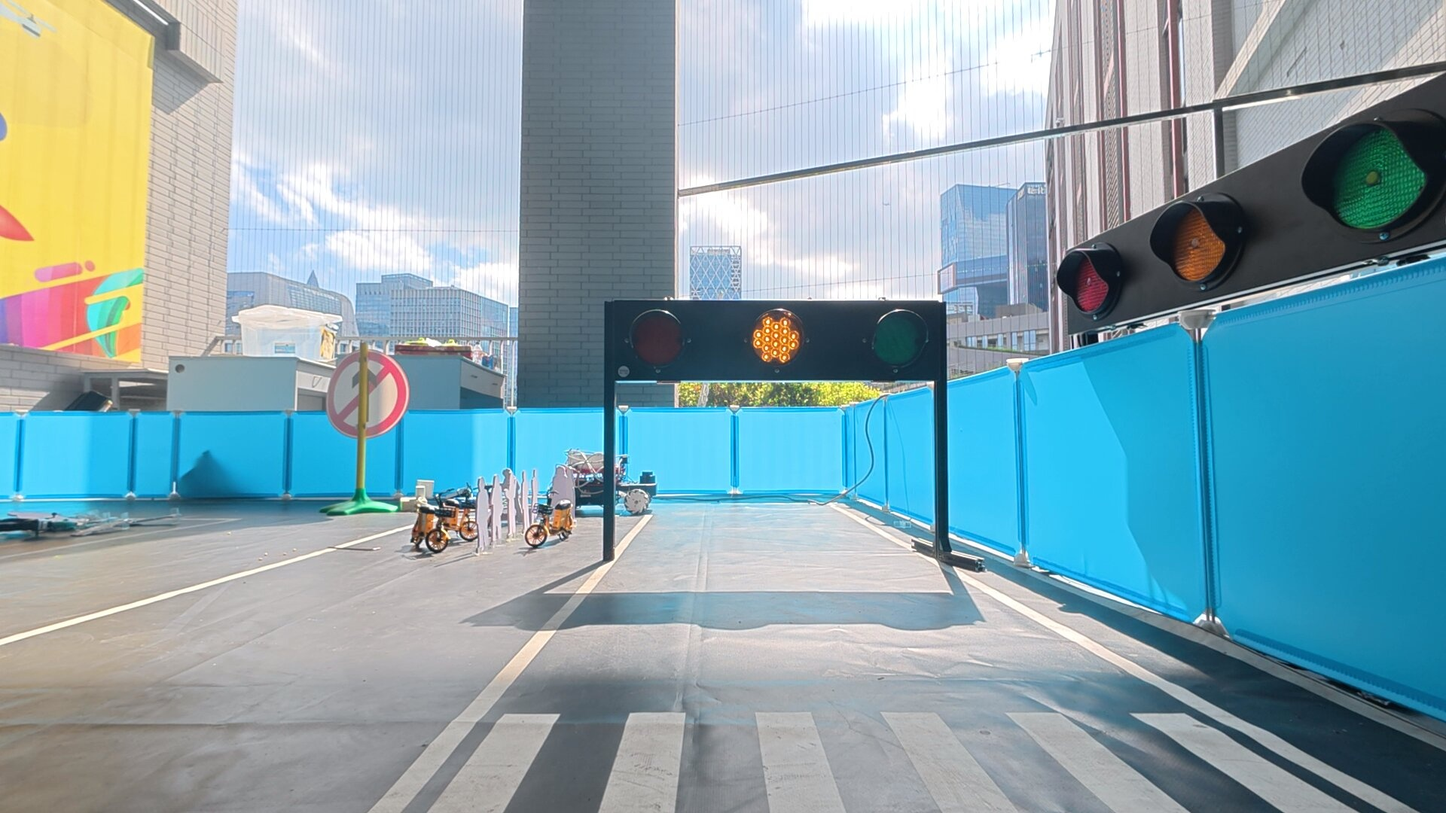stop: (750, 309, 805, 370)
